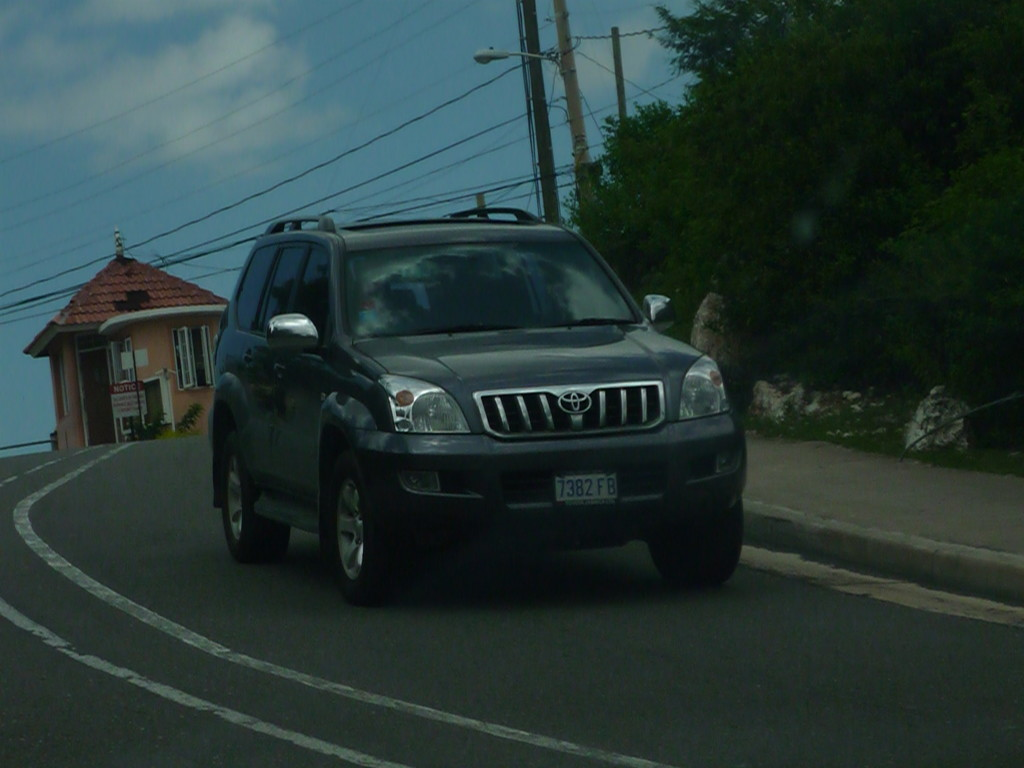Tree: (560, 0, 1024, 450)
